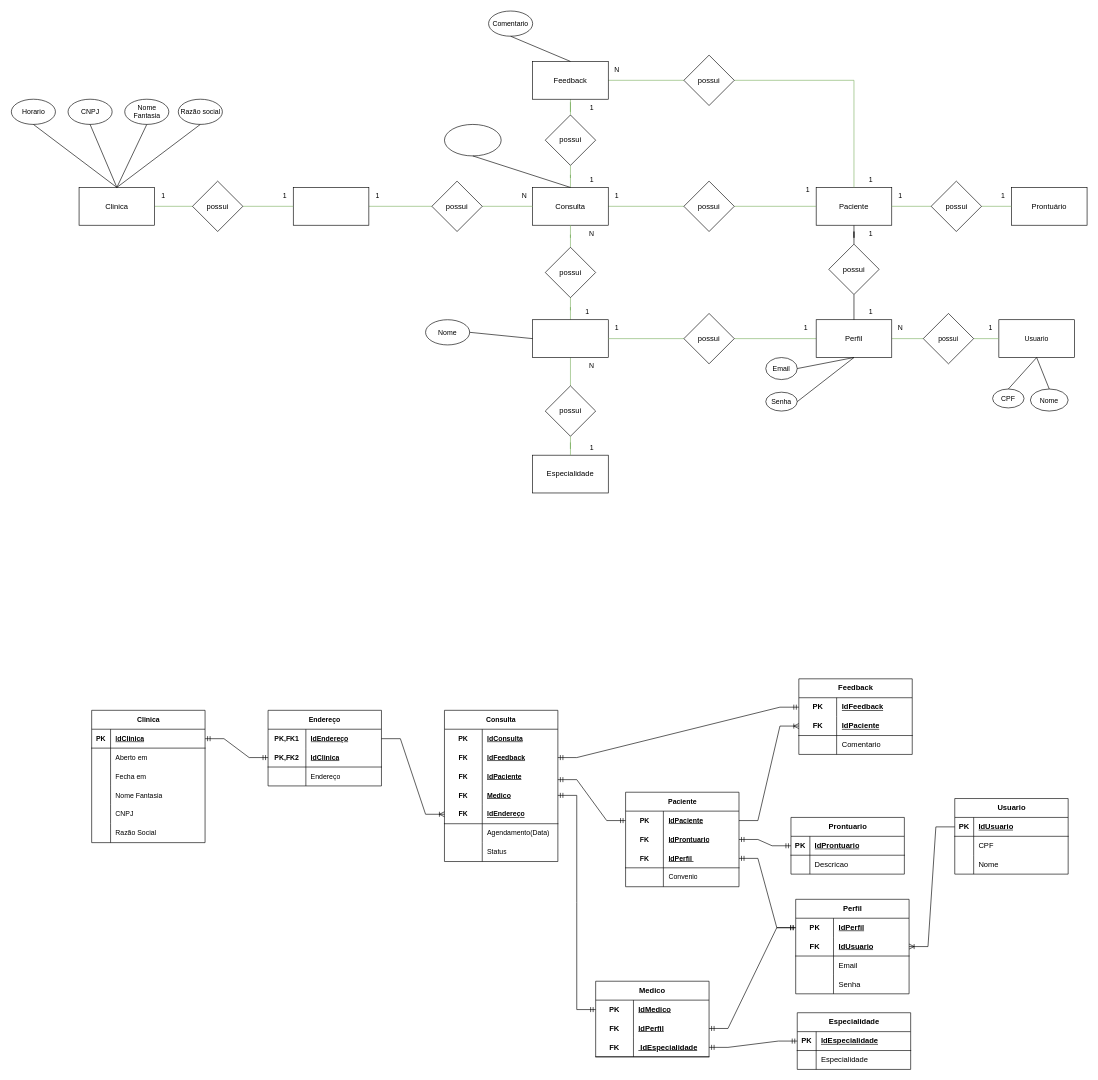
The diagram is 1098 pixels wide and 1080 high, and some of its shapes have lost their labels. Each missing label, with the centre of its shape:
"Agendamento" belongs at point 472,140.
"Endereco" belongs at point 331,206.
"Médico" belongs at point 570,338.
